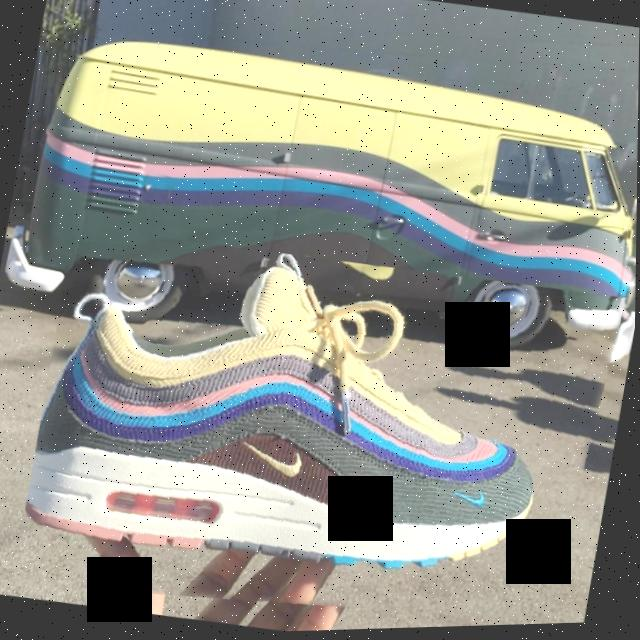shoe: (13, 213, 630, 640)
